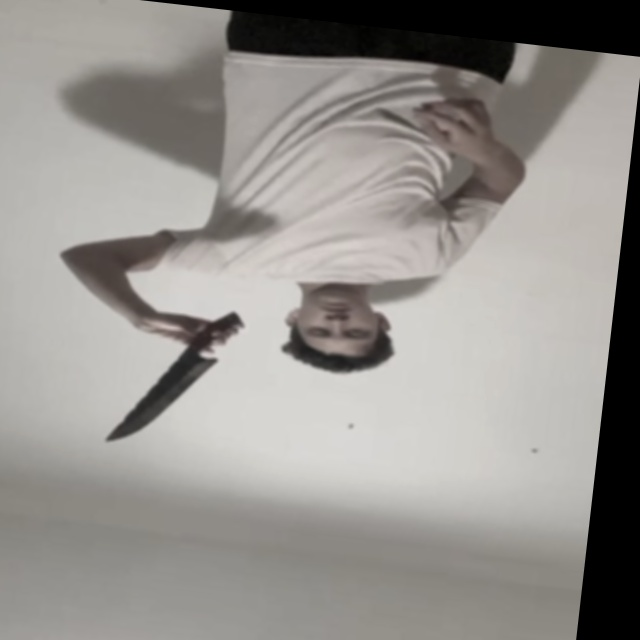Sharp-Object: (101, 342, 219, 455)
